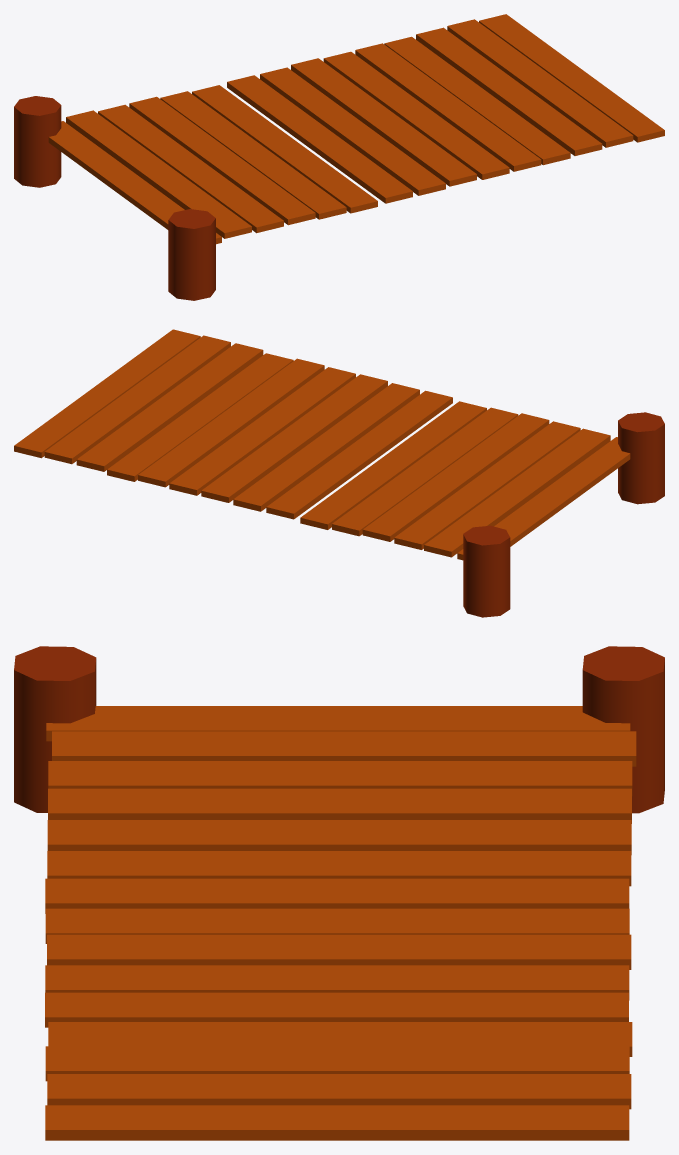
The model's file is Sannbasi.FBX.
3 views of the same model, one above another, from view 1: azimuth 30°, elevation 25°; view 2: azimuth 150°, elevation 25°; view 3: azimuth 270°, elevation 25° (orthographic). The views are drawn at different scales.
Visible parts, largest first — view 1: Box007, Box013, Box009, Box008, Box011, Box004, Box014, Box010, Box002, Box006, Box003, Box015 (+5 smaller); view 2: Box007, Box013, Box009, Box008, Box011, Box004, Box014, Box002, Box010, Box006, Box003, Box015 (+5 smaller); view 3: Box015, Box009, Box014, Box004, Box005, Box007, Box002, Box011, Box006, Box013, Box010, Box003 (+5 smaller).
Boxes of the visible parts, <box> form: Box007: <box>227,75,412,203</box>; Box013: <box>416,27,602,155</box>; Box009: <box>291,58,476,186</box>; Box008: <box>260,67,445,195</box>; Box011: <box>355,43,541,171</box>; Box004: <box>129,96,315,225</box>; Box014: <box>447,19,633,147</box>; Box010: <box>323,51,509,179</box>; Box002: <box>66,110,251,238</box>; Box006: <box>192,85,377,213</box>; Box003: <box>98,104,283,233</box>; Box015: <box>479,14,664,142</box>; Box007: <box>266,390,452,519</box>; Box013: <box>76,343,263,471</box>; Box009: <box>201,374,387,502</box>; Box008: <box>233,383,419,511</box>; Box011: <box>138,358,324,487</box>; Box004: <box>362,413,549,541</box>; Box014: <box>44,335,230,464</box>; Box002: <box>424,428,610,557</box>; Box010: <box>169,367,355,495</box>; Box006: <box>300,401,486,529</box>; Box003: <box>394,421,580,549</box>; Box015: <box>14,329,200,458</box>; Box015: <box>45,1105,629,1140</box>; Box009: <box>47,934,631,969</box>; Box014: <box>47,1074,631,1109</box>; Box004: <box>48,788,631,823</box>; Box005: <box>47,820,631,854</box>; Box007: <box>45,878,629,913</box>; Box002: <box>52,731,636,766</box>; Box011: <box>45,992,628,1027</box>; Box006: <box>47,851,631,886</box>; Box013: <box>45,1046,629,1081</box>; Box010: <box>45,965,629,1000</box>; Box003: <box>48,761,632,795</box>.
Size of the model in its own units: 701 by 98.43 by 439.
